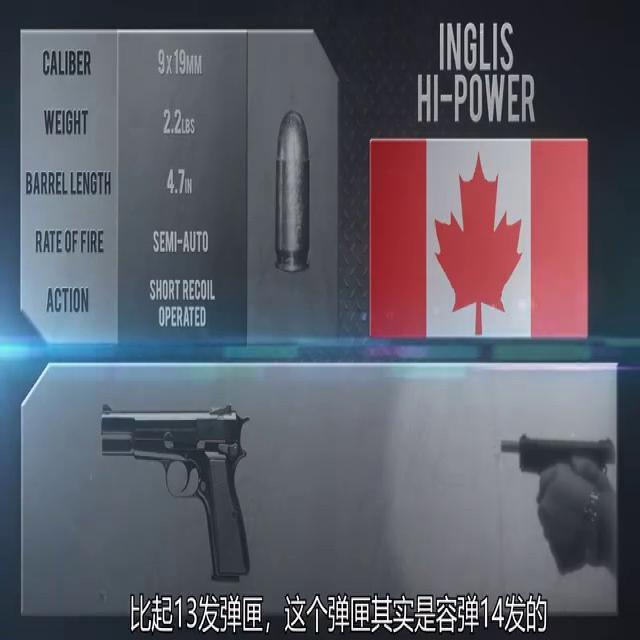gun-knife-thesis - v11 Yolov5 augmented: (85, 389, 262, 579), (494, 412, 615, 555)
